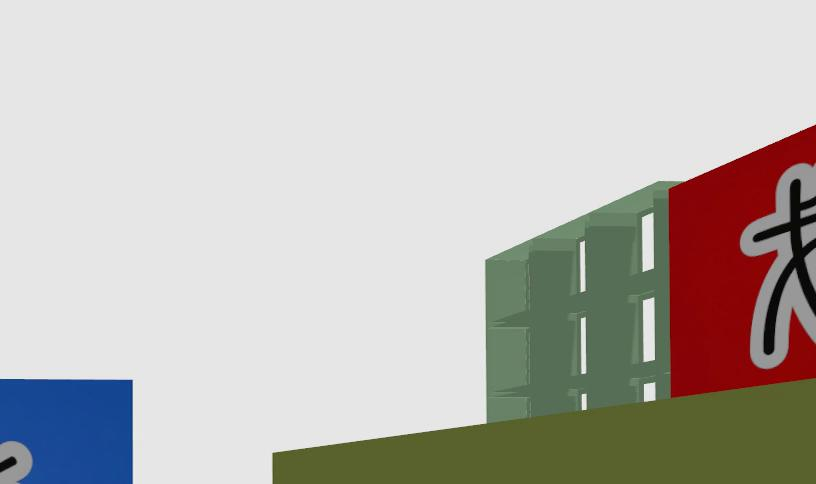KFS_FAKE: (669, 127, 815, 395), (740, 163, 815, 368)
KFS_REAL: (0, 380, 132, 484), (0, 439, 31, 484)
